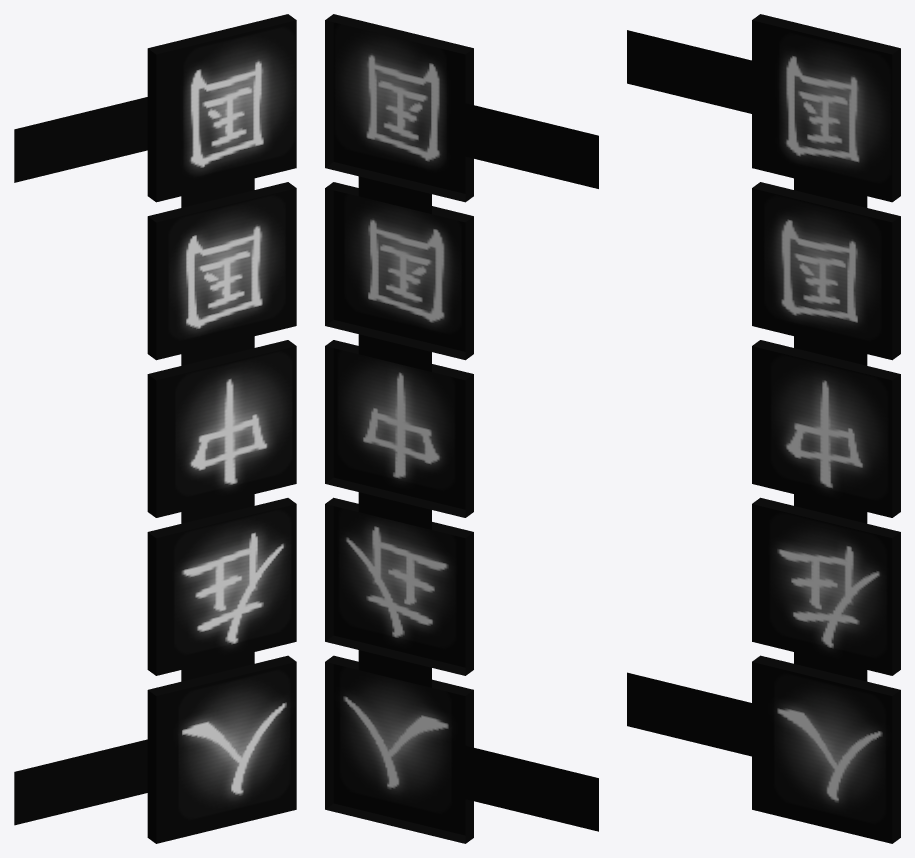
File: bb_chi_right_01.fbx
The picture shows the model from 3 angles, left to right: view 1: azimuth 30°, elevation 25°; view 2: azimuth 150°, elevation 25°; view 3: azimuth 330°, elevation 25°; orthographic projection.
Parts seen in each view (by area): view 1: bb_chi_right_01; view 2: bb_chi_right_01; view 3: bb_chi_right_01.
Part boxes in pixels (<box>): bb_chi_right_01: <box>14,14,296,843</box>; bb_chi_right_01: <box>325,14,598,843</box>; bb_chi_right_01: <box>627,14,900,843</box>.
Size of the model in its own units: 156 by 429 by 8.45.
